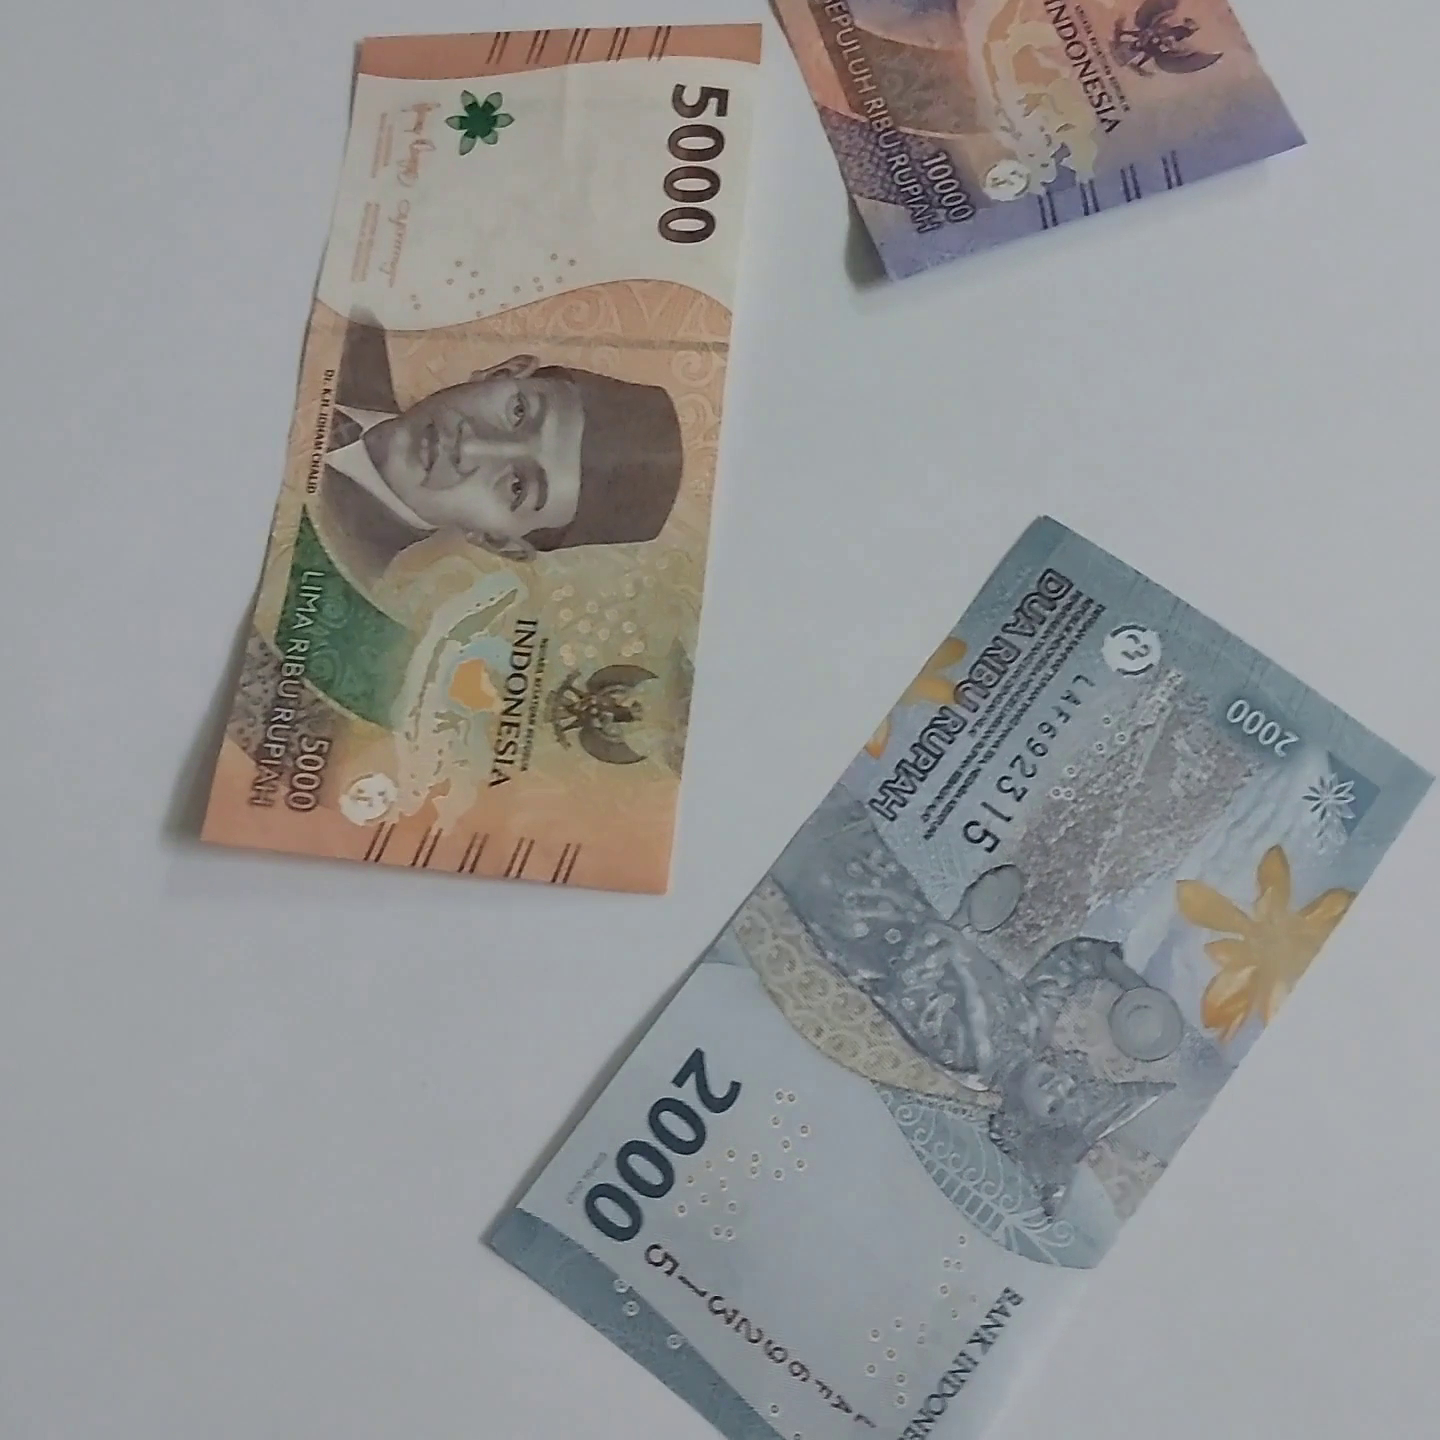10k: (761, 0, 1407, 302)
2k: (477, 509, 1440, 1440)
5k: (215, 0, 758, 886)
